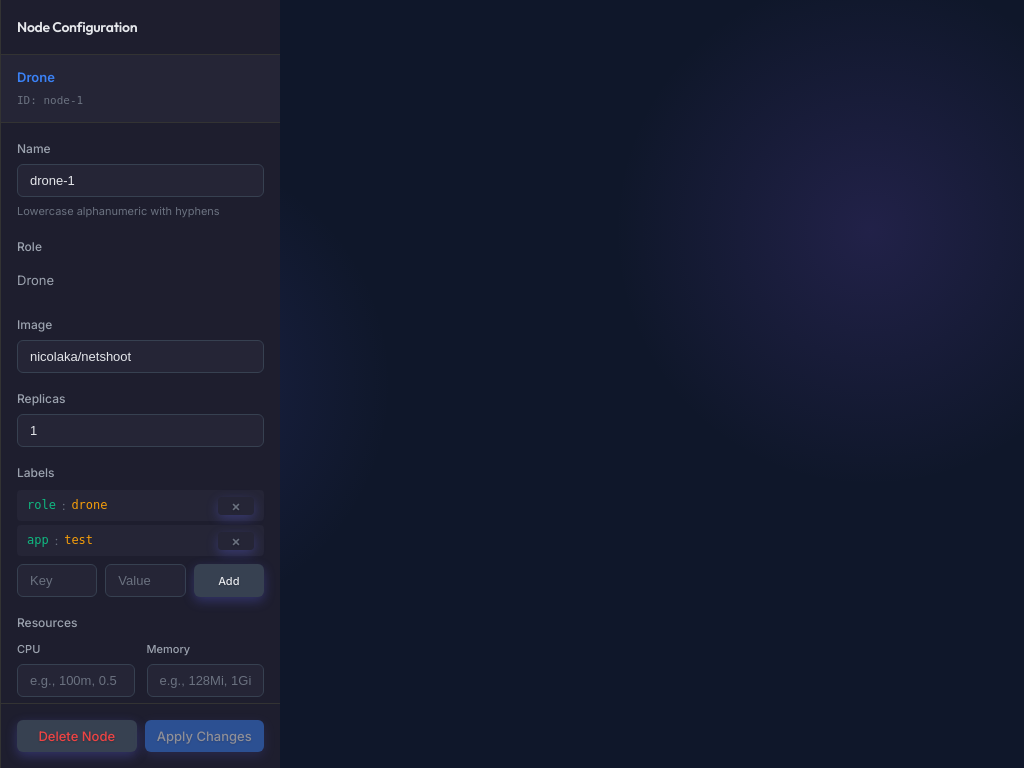
Test: NodeConfigPanel › allows removing labels
// Find remove button for 'app' label (second one)
Click the button titled "Remove label" next to "test".
click(236, 541)  # box left=218, top=532, right=254, bottom=550
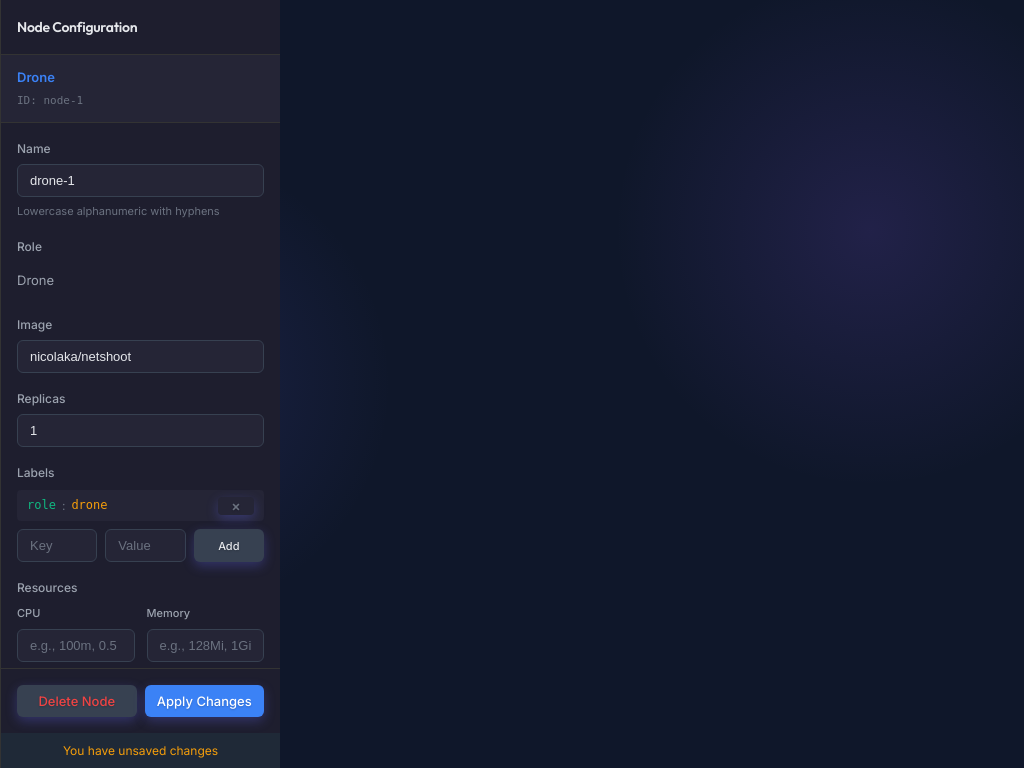
Expected: the text "test" is gone
